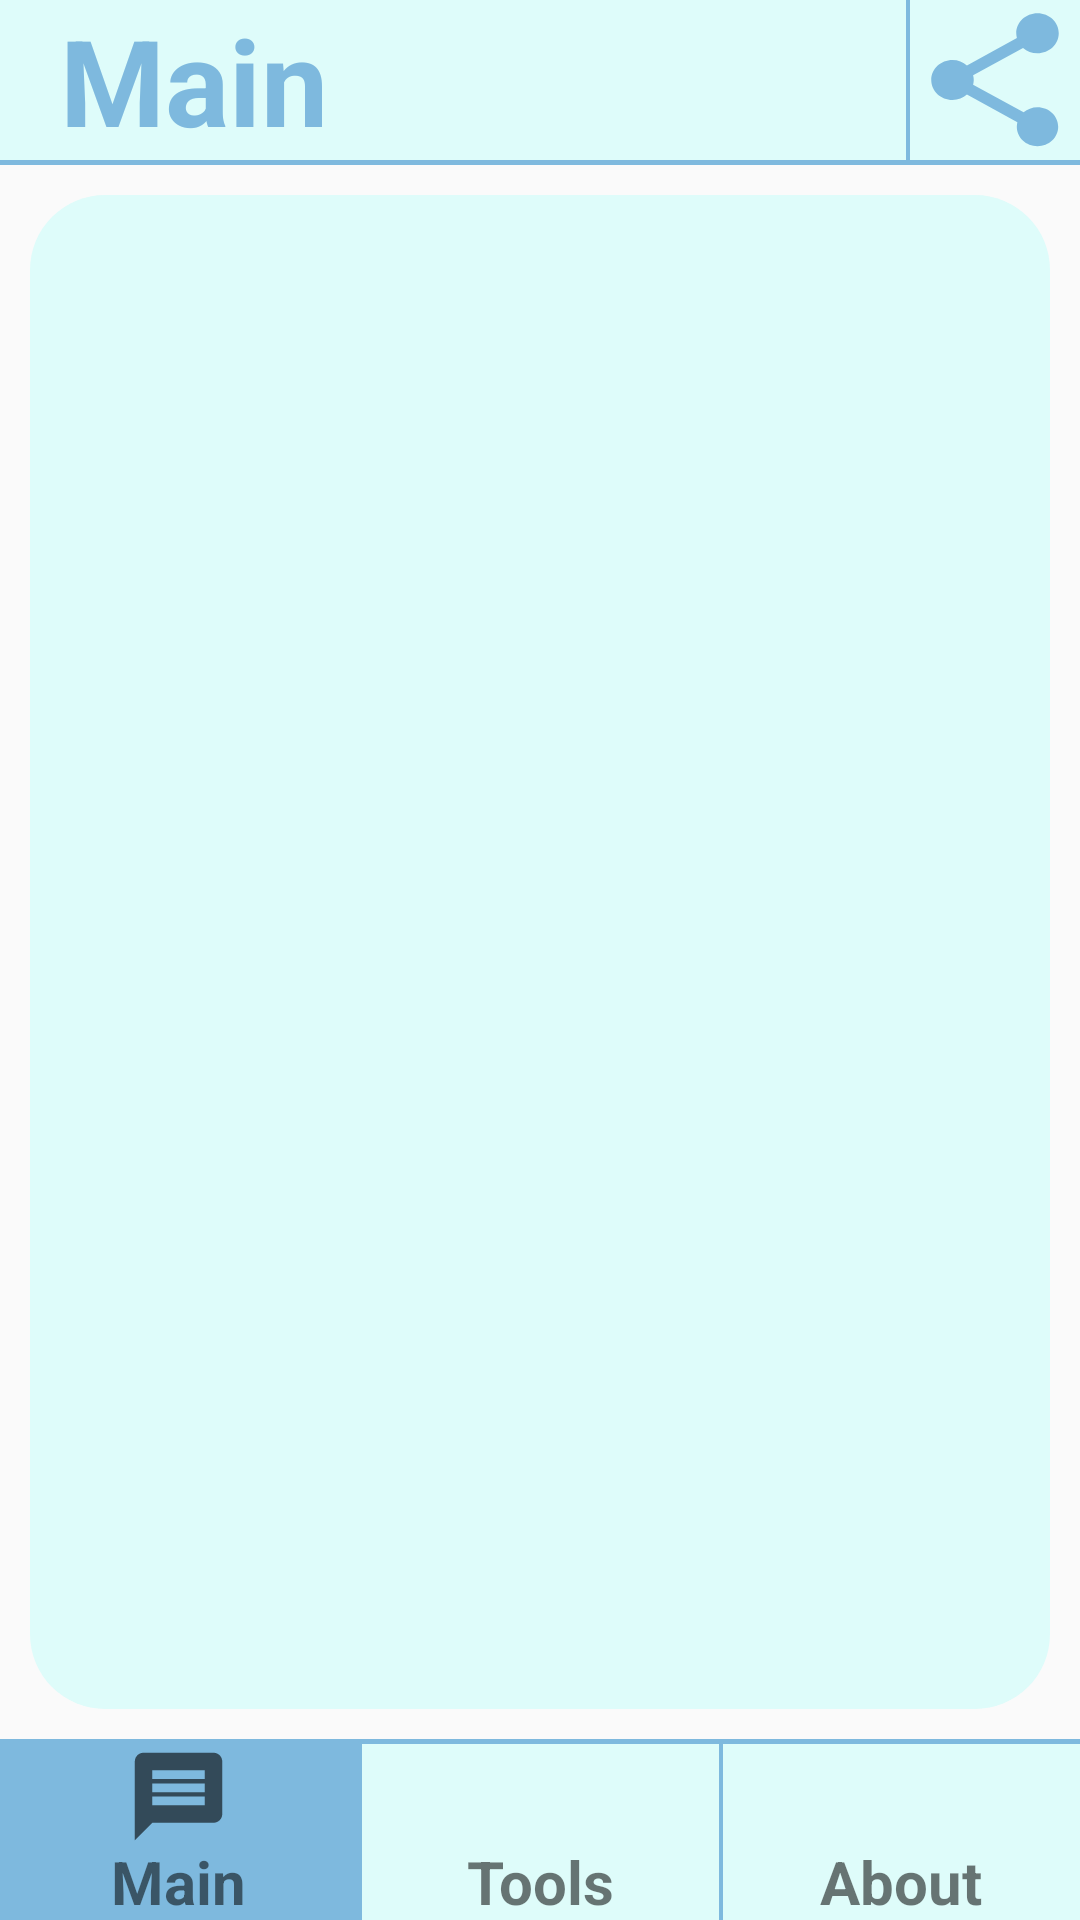

Point at icon controls on the screen. Image size 1080 x 1920, points as [x,y].
message: [178,1796]
share: [995,80]
